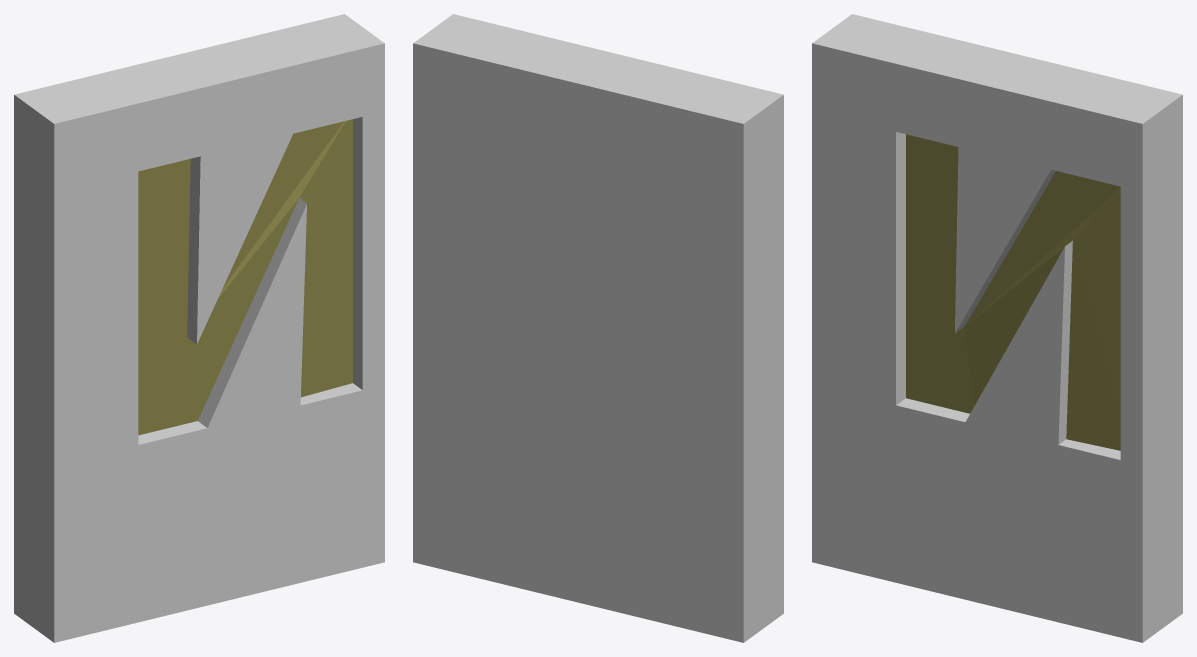
File: plitkaii.fbx
The picture shows the model from 3 angles, left to right: view 1: azimuth 30°, elevation 25°; view 2: azimuth 150°, elevation 25°; view 3: azimuth 330°, elevation 25°; orthographic projection.
Visible parts, largest first — view 1: И.006; view 2: И.006; view 3: И.006.
Part boxes in pixels (x1,y1,x2,y2): И.006: [14, 14, 384, 642]; И.006: [413, 14, 783, 642]; И.006: [812, 14, 1182, 642].
Bounding box in the file's own units: 23.8 × 35.7 × 5.
